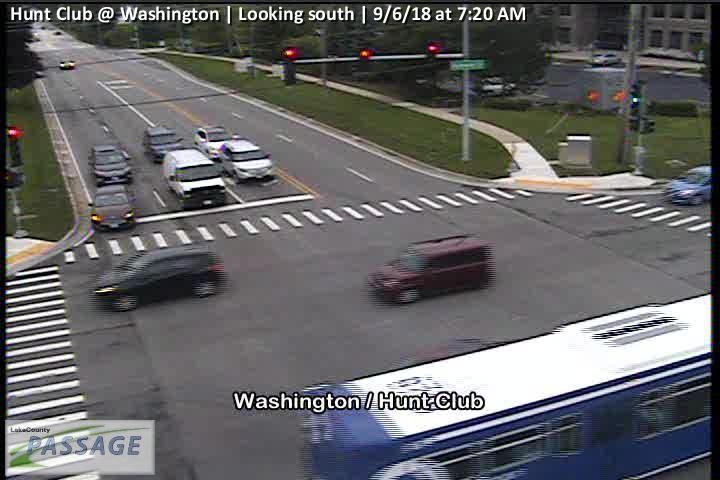Bus: (283, 290, 712, 480)
SUV: (91, 245, 224, 311), (367, 235, 493, 302), (162, 149, 225, 205), (221, 139, 274, 182)
Sedan: (88, 184, 136, 230), (663, 165, 711, 205), (88, 144, 130, 183), (144, 125, 184, 159), (194, 125, 231, 161)
